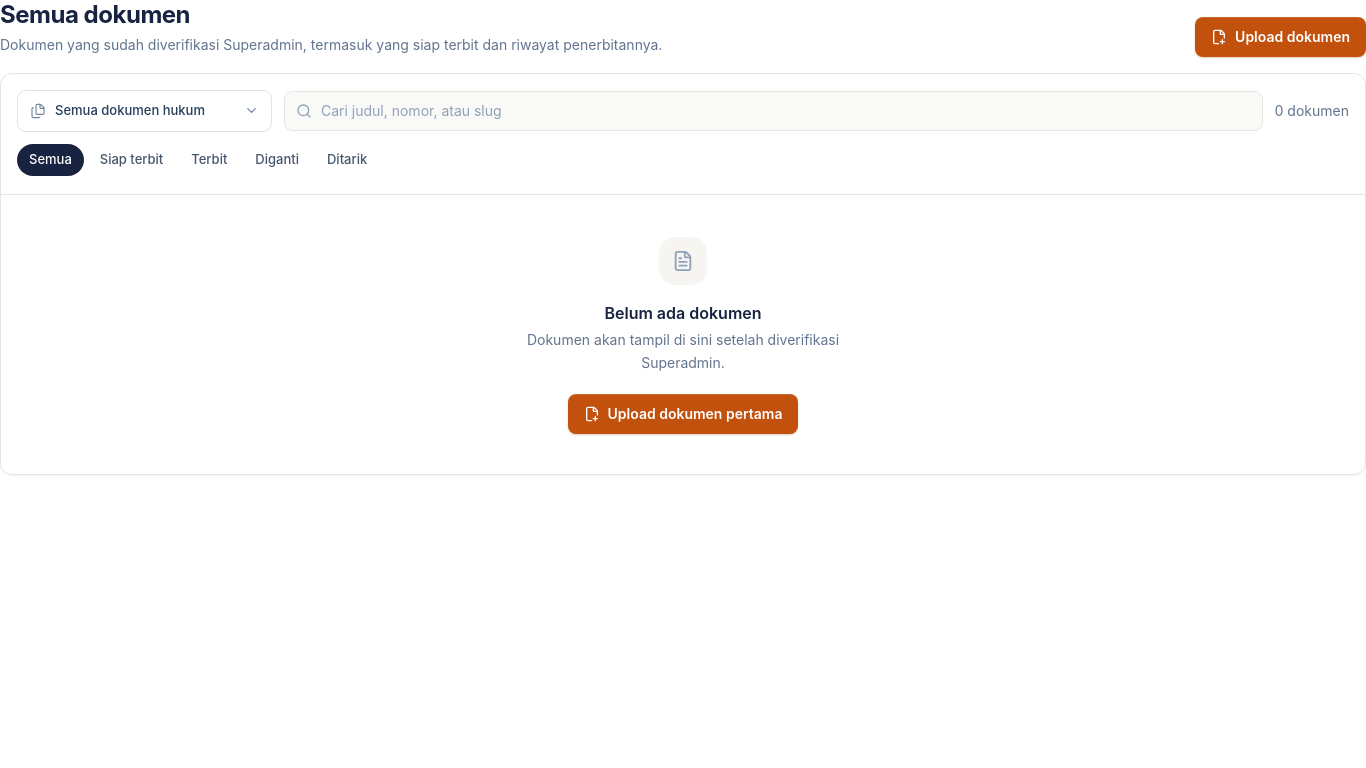
it: dropdown koleksi Semua Dokumen › Superadmin dapat memilih SOP khusus dan format memakai data template serta pagination sendiri
Expected: the text "Belum ada dokumen" is shown, [604,301,762,325]
Press ArrowDown in the button with aria-label "Jenis koleksi:", box [17,90,272,132]
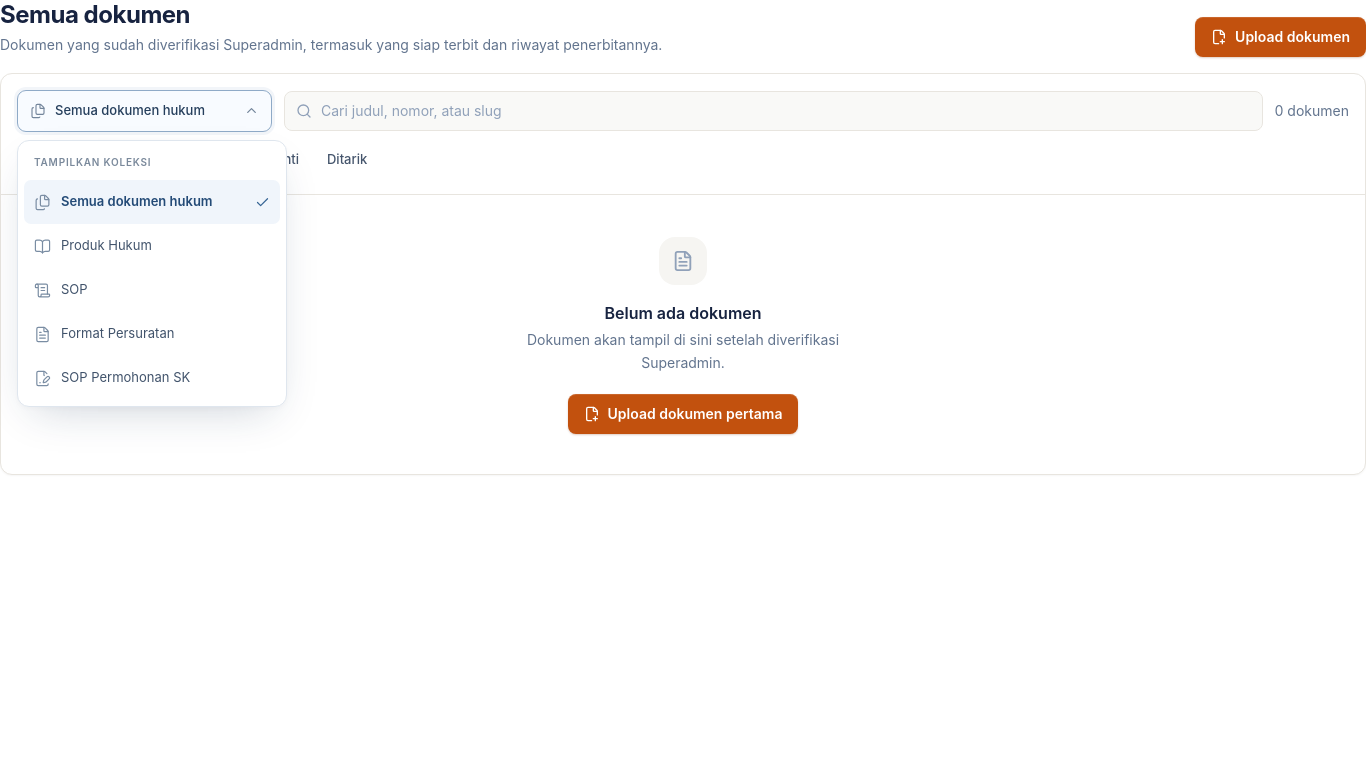
Click the menu item "SOP Permohonan SK" at (112, 378), box [34,369,190,387]
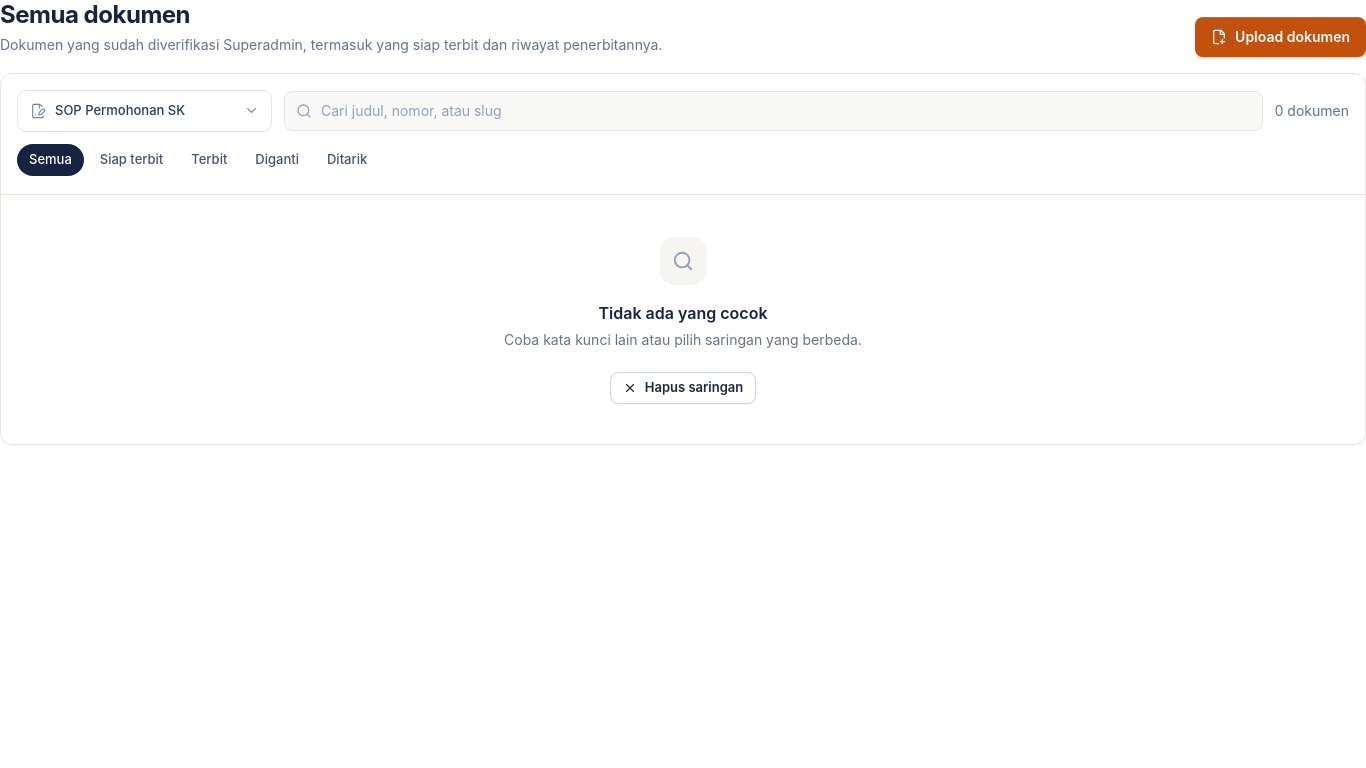
Press ArrowDown in the button with aria-label "Jenis koleksi:", box [17,90,272,132]
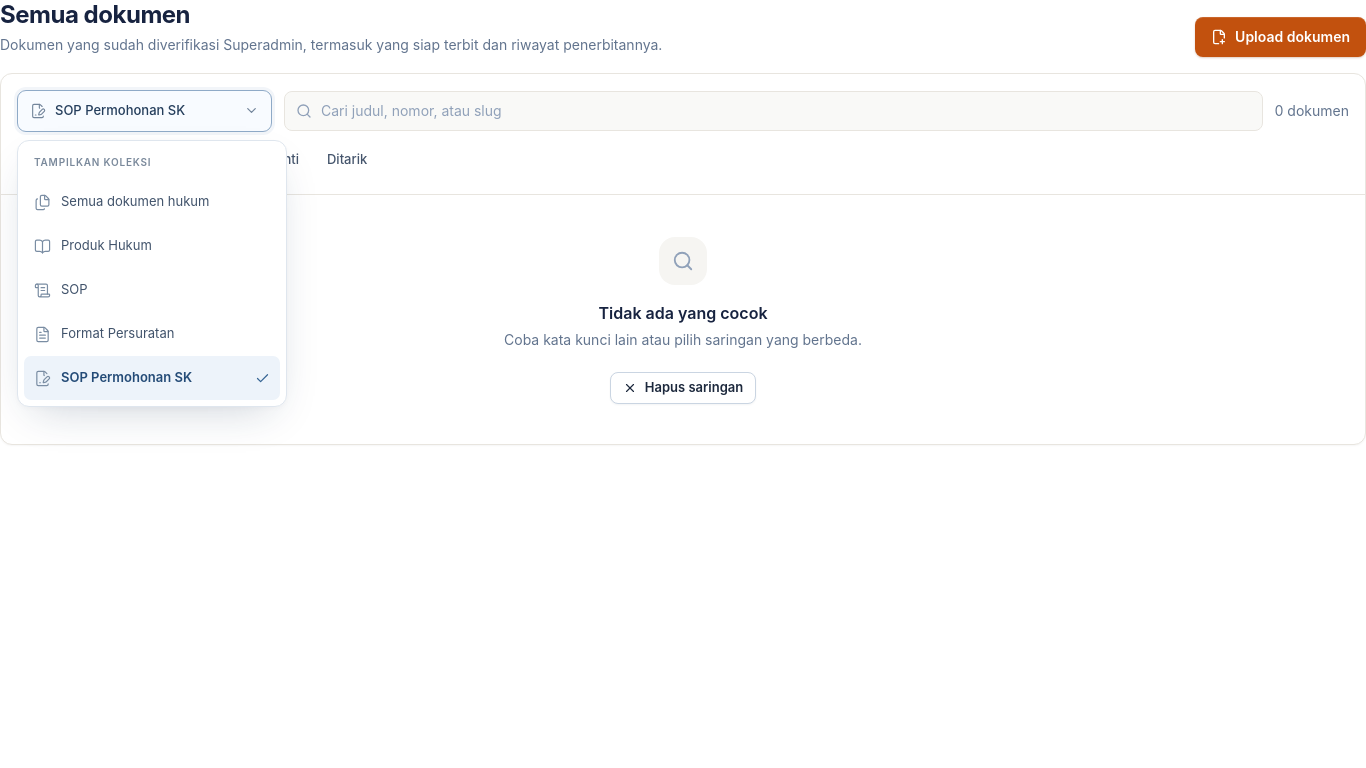
Click the menu item "Format Persuratan" at (104, 334), box [34,325,174,343]
(page scrolled)
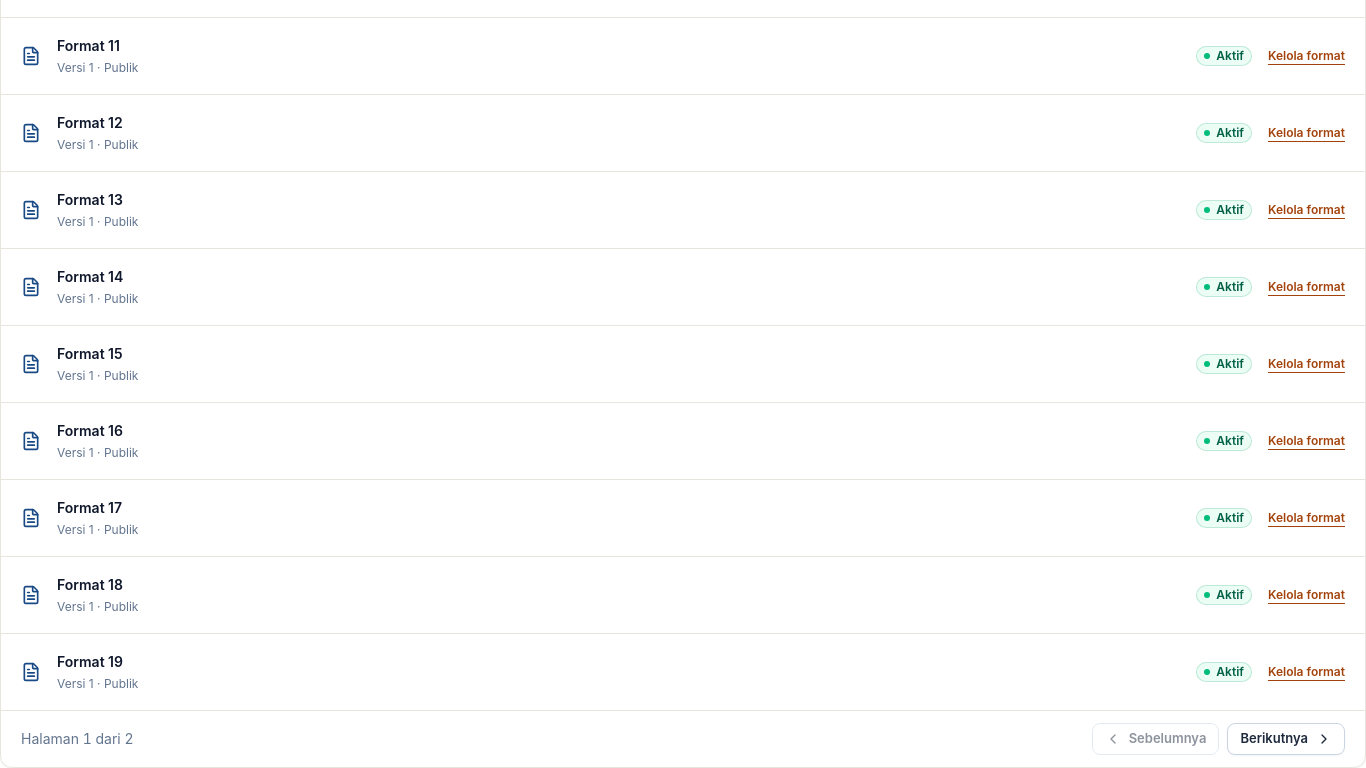
Expected: the text "Format 20" is not shown
Click the button "Berikutnya" at (1286, 739), box [1227,723,1345,755]
(page scrolled)
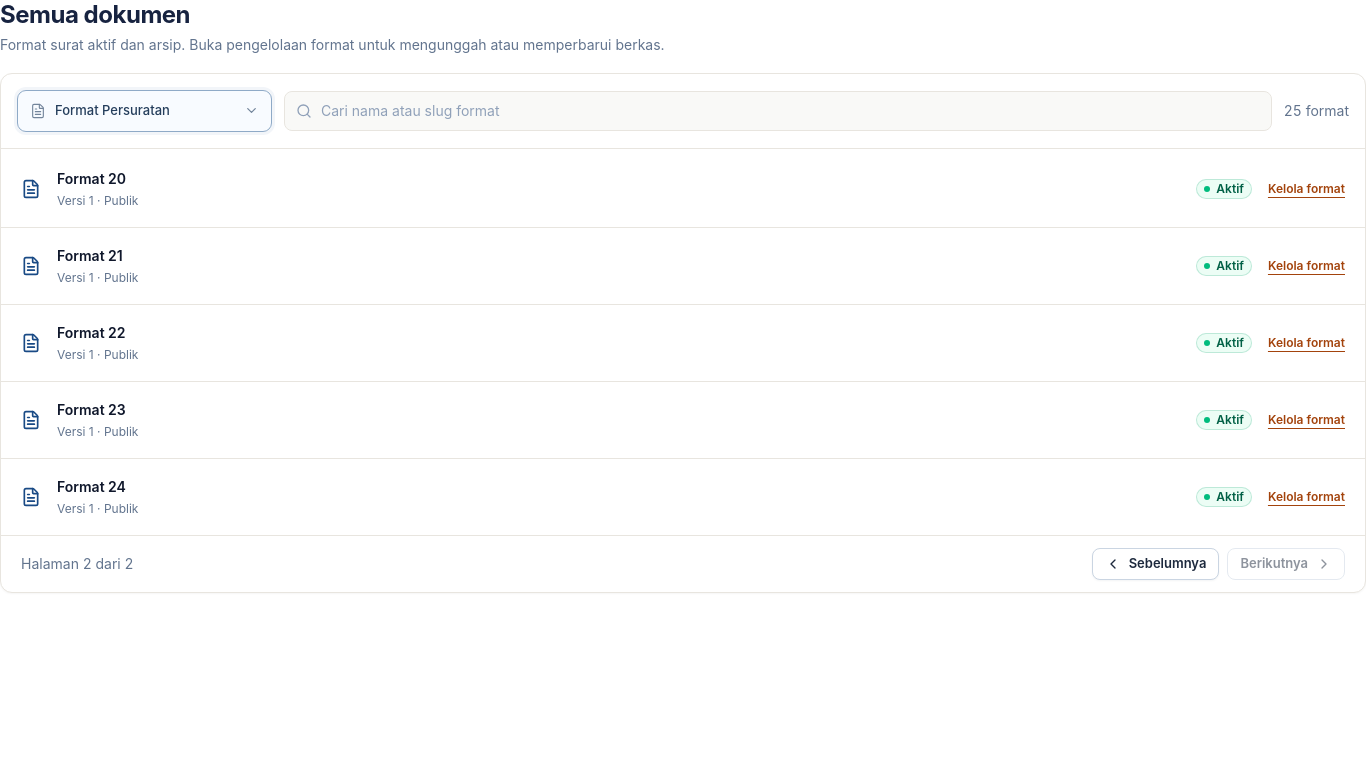
Expected: the heading "Format 20" is shown, [57,170,126,187]
Expected: the text "Halaman 2 dari 2" is shown, [21,554,134,574]
